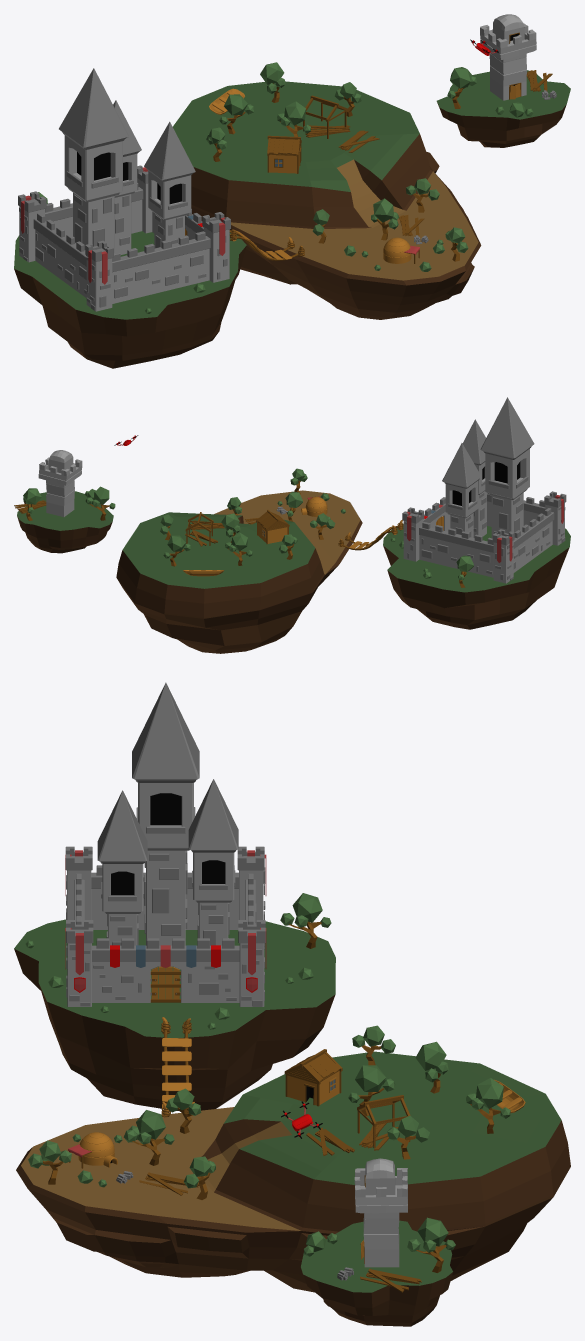
The model's file is island.glb.
3 renders of one model, top to bottom at view 1: azimuth 30°, elevation 25°; view 2: azimuth 150°, elevation 25°; view 3: azimuth 270°, elevation 25°, orthographic. The views are drawn at different scales.
Parts seen in each view (by area): view 1: Ilha, Castelo, Torre, Casa, Iglu, Arvore_2, Arvore_2.002, Arvore_2.003, Arvore_2.004, Arvore_2.001, Arvore_1.003, Casa.001 (+3 smaller); view 2: Ilha, Castelo, Torre, Casa, Arvore_2.001, Arvore_2.003, Iglu, Arvore_2.004, Arvore_2.005; view 3: Ilha, Castelo, Torre, Casa, Ponte, Arvore_2.009, Arvore_2.002, Iglu, Arvore_2.005, Arvore_2.004, Arvore_2, Arvore_2.003 (+4 smaller).
Boxes of the visible parts, x1,y1,x2,y2 form: Ilha: [14, 70, 570, 368]; Castelo: [18, 68, 230, 311]; Torre: [480, 14, 536, 100]; Casa: [267, 135, 301, 173]; Iglu: [383, 237, 419, 263]; Arvore_2: [277, 101, 310, 136]; Arvore_2.002: [371, 198, 399, 240]; Arvore_2.003: [219, 94, 253, 134]; Arvore_2.004: [260, 62, 285, 102]; Arvore_2.001: [447, 67, 476, 108]; Arvore_1.003: [406, 178, 439, 212]; Casa.001: [303, 95, 347, 138]; Ilha: [17, 490, 570, 653]; Castelo: [402, 397, 566, 583]; Torre: [38, 450, 82, 516]; Casa: [256, 510, 289, 544]; Arvore_2.001: [85, 486, 115, 520]; Arvore_2.003: [225, 532, 252, 565]; Iglu: [301, 496, 327, 516]; Arvore_2.004: [163, 535, 190, 566]; Arvore_2.005: [23, 488, 41, 520]; Ilha: [14, 919, 570, 1326]; Castelo: [65, 682, 266, 1006]; Torre: [354, 1158, 407, 1267]; Casa: [284, 1049, 342, 1106]; Ponte: [162, 1029, 191, 1109]; Arvore_2.009: [280, 893, 331, 948]; Arvore_2.002: [123, 1110, 174, 1165]; Iglu: [68, 1132, 117, 1168]; Arvore_2.005: [407, 1217, 455, 1272]; Arvore_2.004: [466, 1078, 510, 1133]; Arvore_2: [348, 1065, 395, 1116]; Arvore_2.003: [415, 1041, 448, 1093].
Bounding box in the file's own units: 60.17 × 31.48 × 37.51.
